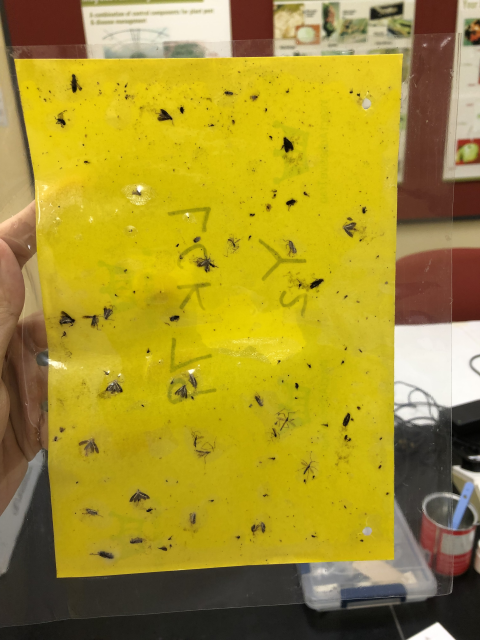DBM: (194, 251, 218, 275), (77, 436, 101, 456), (280, 238, 300, 260), (154, 107, 176, 127), (173, 381, 191, 403), (129, 487, 152, 504), (81, 312, 102, 330), (59, 309, 77, 329), (183, 373, 203, 391), (105, 378, 125, 395), (280, 136, 296, 157), (341, 222, 360, 238), (309, 275, 326, 292), (80, 506, 104, 517), (101, 304, 115, 322), (127, 536, 147, 546), (340, 410, 351, 428)
